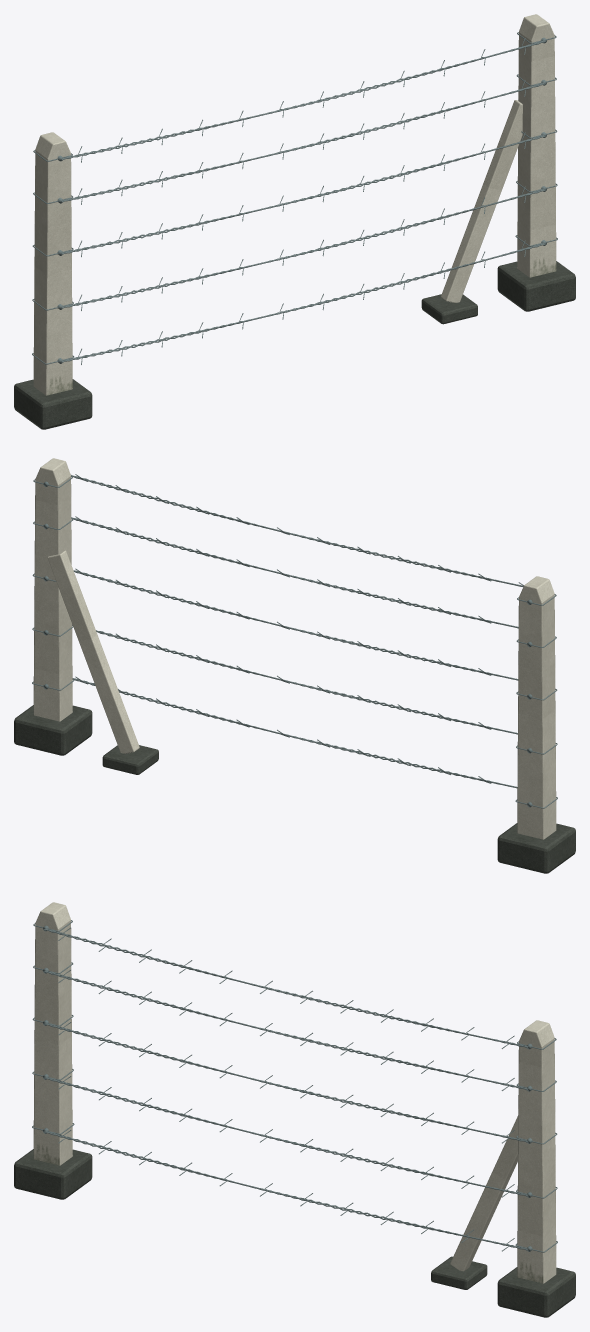
3 views of the same model, one above another, from view 1: azimuth 30°, elevation 25°; view 2: azimuth 150°, elevation 25°; view 3: azimuth 330°, elevation 25° (orthographic).
Parts seen in each view (by area): view 1: TF3_KR_R07; view 2: TF3_KR_R07; view 3: TF3_KR_R07.
Part boxes in pixels (x1=…): TF3_KR_R07: x1=14, y1=14, x2=575, y2=429; TF3_KR_R07: x1=14, y1=458, x2=575, y2=873; TF3_KR_R07: x1=14, y1=902, x2=575, y2=1317.
Bounding box in the file's own units: 3.32 × 1.64 × 0.325.
Materials: 4 (4 with a texture image).
